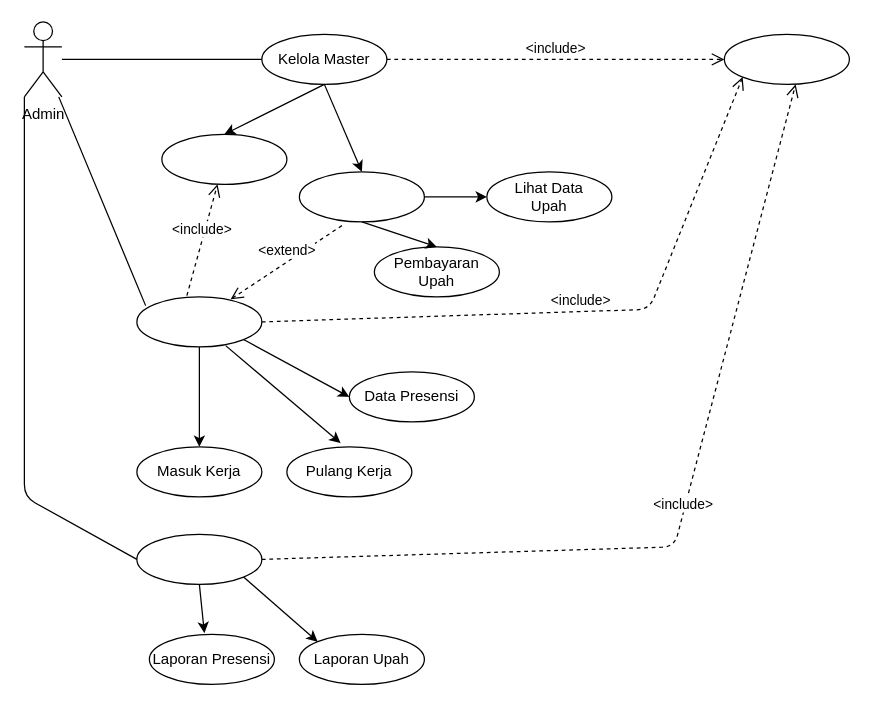
Some shapes in this 871 by 706 pixel diagram are drawn without their labels. The box of each missing label's shape, as (x1, y1, x2, y2) in pixels:
Kelola Data Pegawai: (161, 133, 287, 184)
Kelola Data Upah: (298, 171, 424, 222)
Kelola Presensi: (136, 296, 262, 347)
Laporan: (136, 533, 262, 584)
Login: (723, 33, 849, 84)
